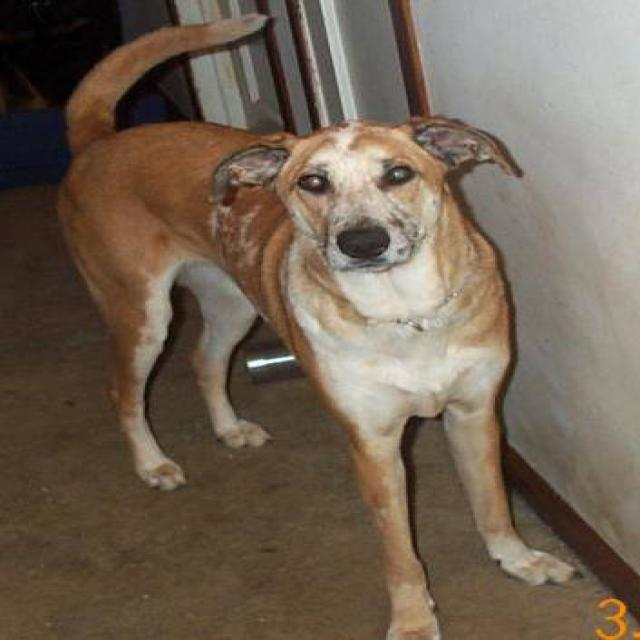Dog: (215, 112, 539, 275)
